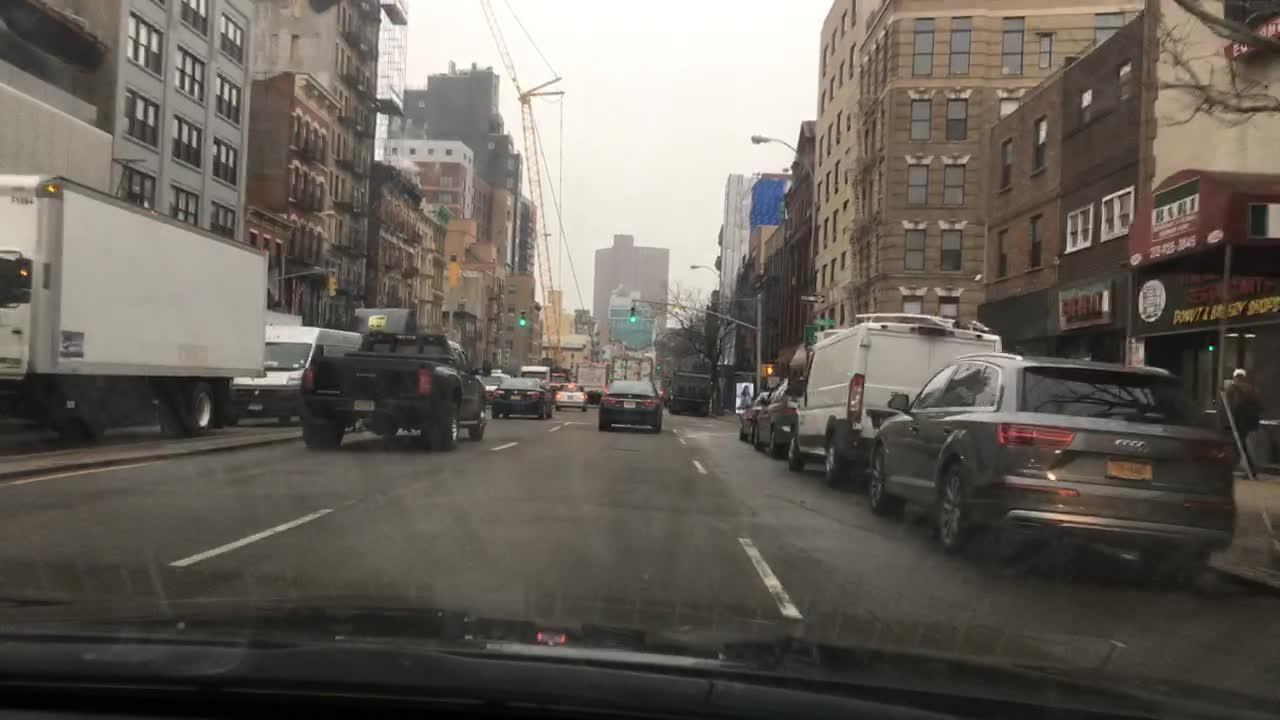Audi: (1112, 437, 1154, 455)
